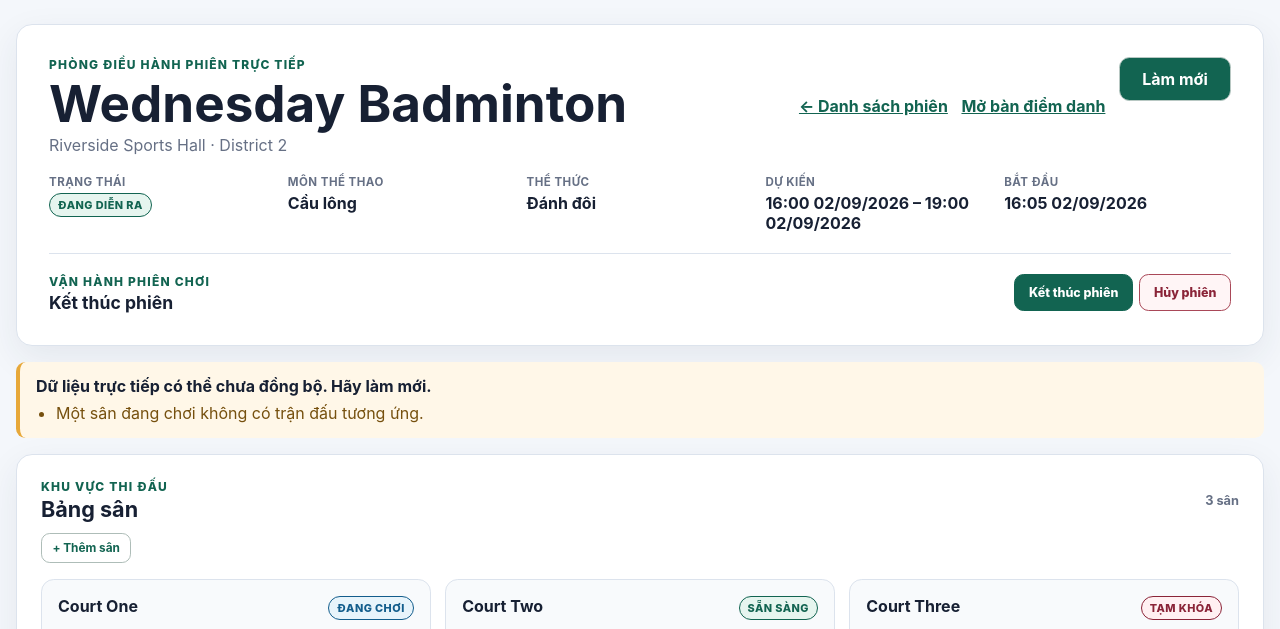
Test: Session lifecycle pending and failure safety › does not retry Complete after 409 and adopts the refreshed PLAYING Match blocker
Click the button "Kết thúc phiên".
click(1074, 292)  # box [1014, 274, 1133, 310]
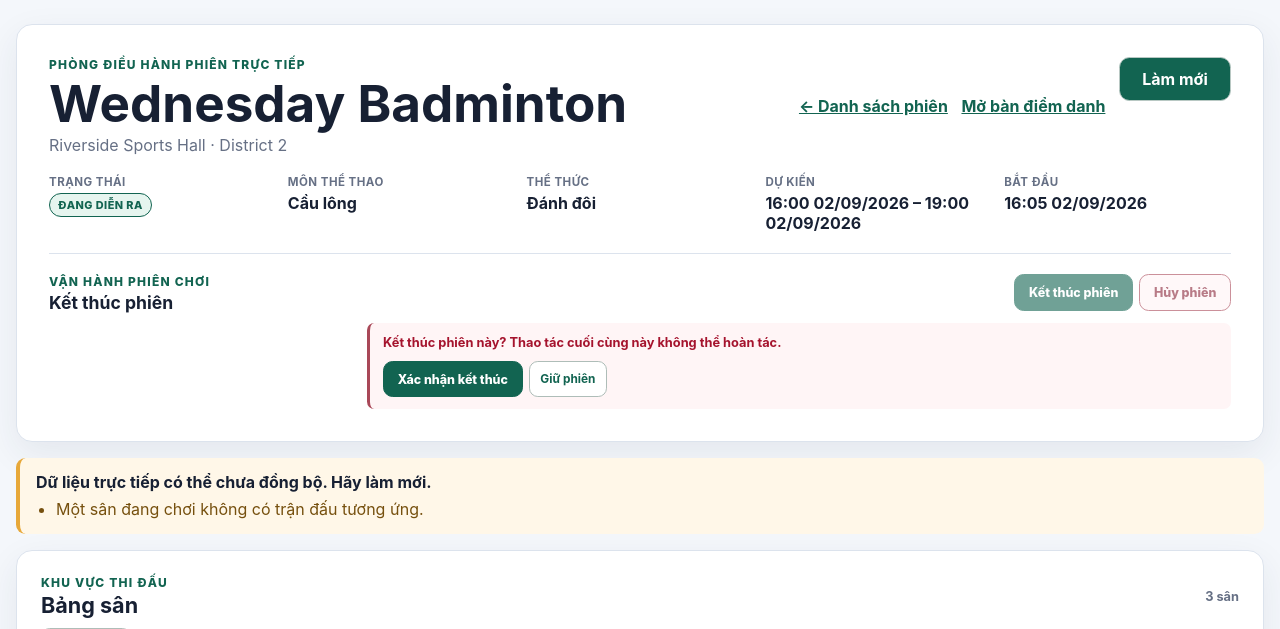
Click the button "Xác nhận kết thúc".
click(453, 379)  # box [383, 361, 523, 397]
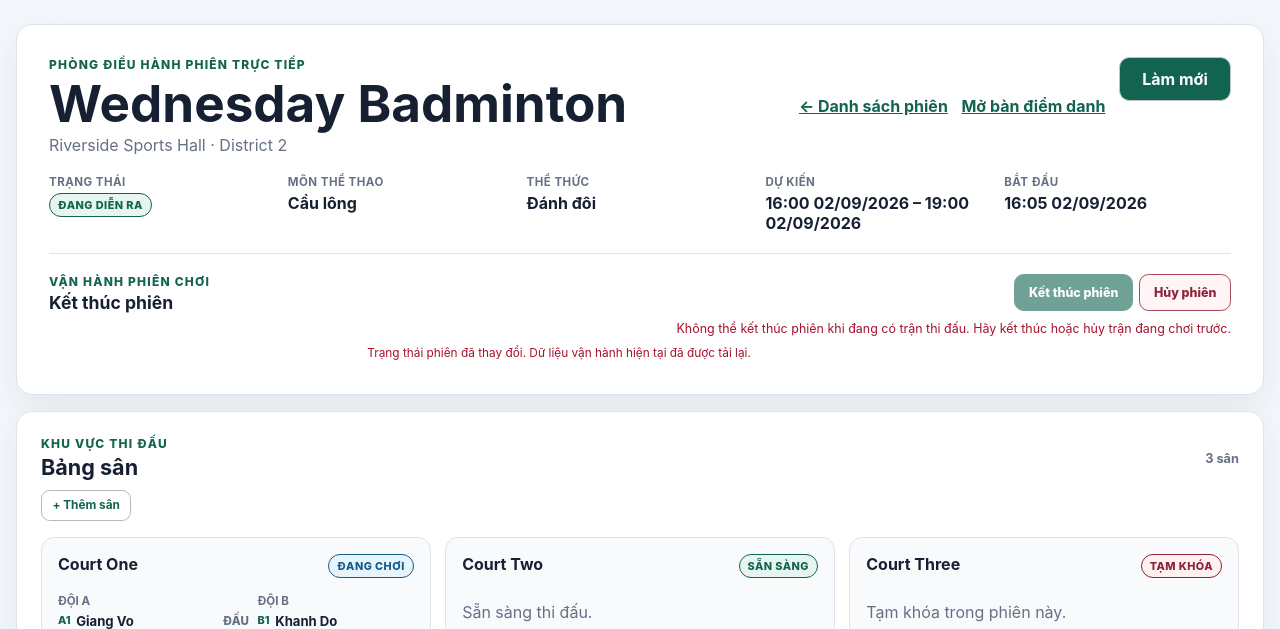
Expected: the button "Kết thúc phiên" is disabled, [1014, 274, 1133, 310]
Expected: the text "Trạng thái phiên đã thay đổi. Dữ liệu vận hành hiện tại đã được tải lại." is shown, [367, 346, 751, 360]
Expected: the text "Không thể kết thúc phiên khi đang có trận thi đấu" is shown, [676, 321, 1231, 336]
